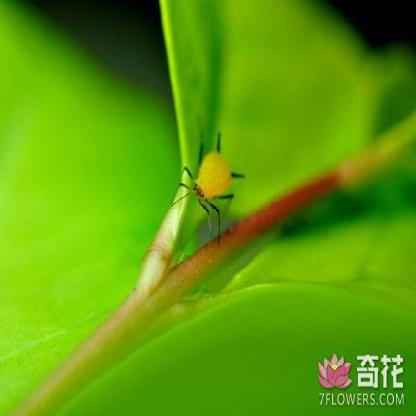aphid: (168, 113, 256, 250)
